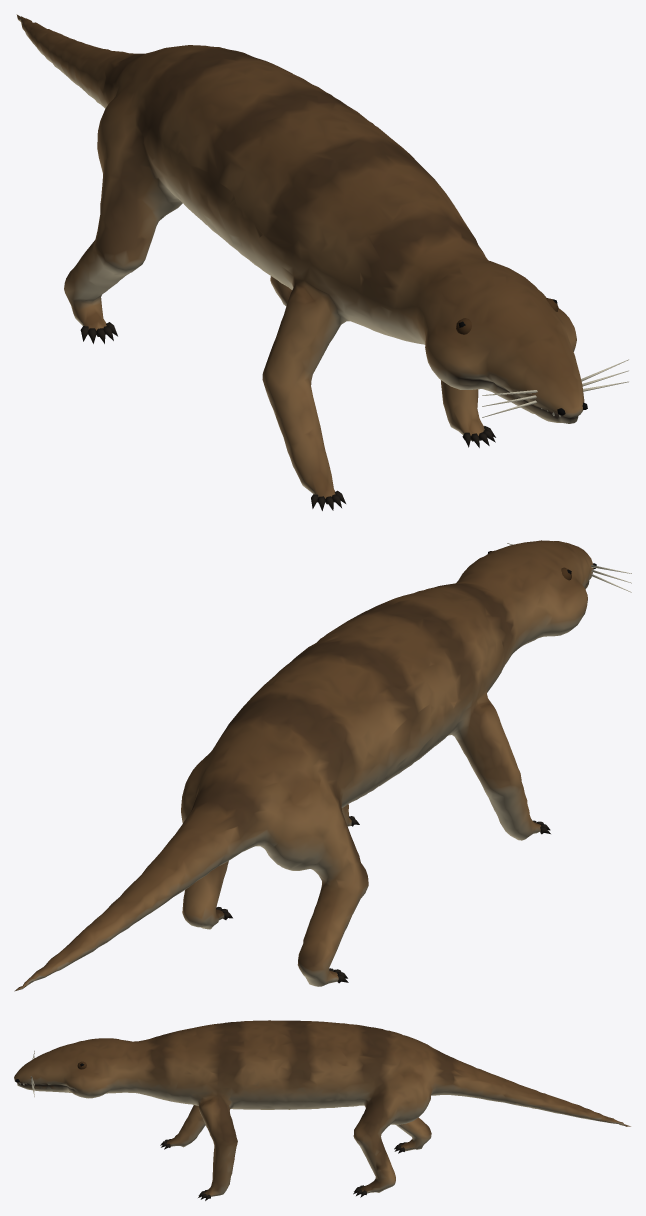
Rendered from Massetognathus.fbx.
The picture shows the model from 3 angles, top to bottom: view 1: azimuth 30°, elevation 25°; view 2: azimuth 150°, elevation 25°; view 3: azimuth 270°, elevation 25°; orthographic projection. The views are drawn at different scales.
Visible parts, largest first — view 1: Massetognathus; view 2: Massetognathus; view 3: Massetognathus.
Part boxes in pixels (box(x1,y1,x2,y2)): Massetognathus: box(16, 14, 628, 510); Massetognathus: box(14, 540, 631, 991); Massetognathus: box(14, 1020, 630, 1200).
Bounding box in the file's own units: 0.3868 × 0.4836 × 1.82.
